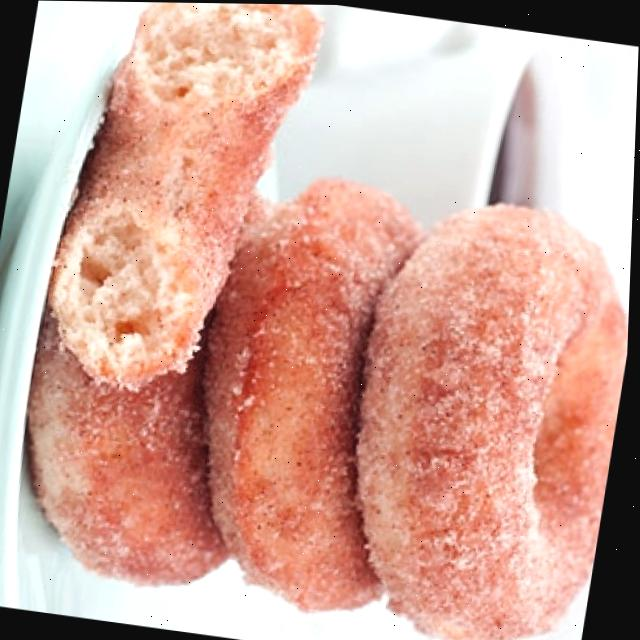炸货点心: (0, 34, 639, 640)
